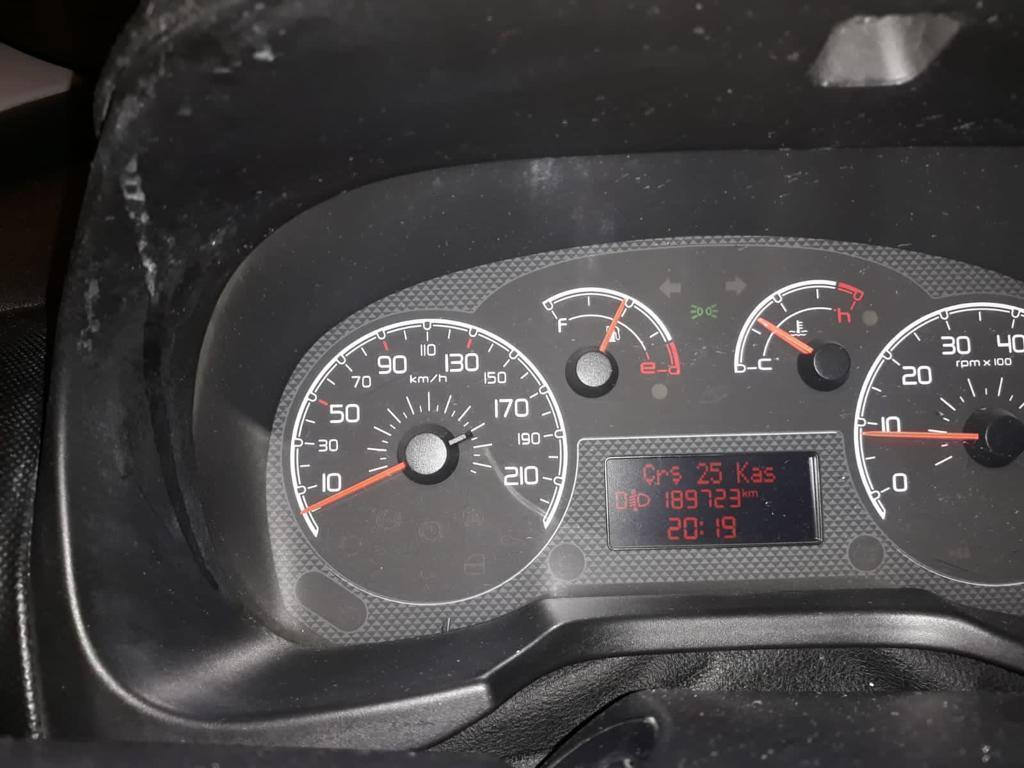0: (682, 516, 698, 539), (614, 491, 627, 509)
1: (715, 516, 720, 538), (664, 491, 669, 509)
2: (666, 516, 681, 540), (695, 462, 709, 485), (713, 487, 726, 508)
3: (727, 488, 740, 508)
5: (709, 461, 722, 484)
7: (700, 488, 712, 508)
8: (670, 489, 683, 509)
9: (721, 514, 736, 539), (684, 489, 698, 509)
X: (735, 460, 750, 484), (642, 463, 655, 486), (763, 465, 776, 483), (670, 465, 682, 484), (750, 466, 762, 483), (656, 468, 668, 485), (698, 519, 704, 536), (748, 489, 758, 497), (740, 487, 747, 497)
odometer: (603, 450, 821, 551)
